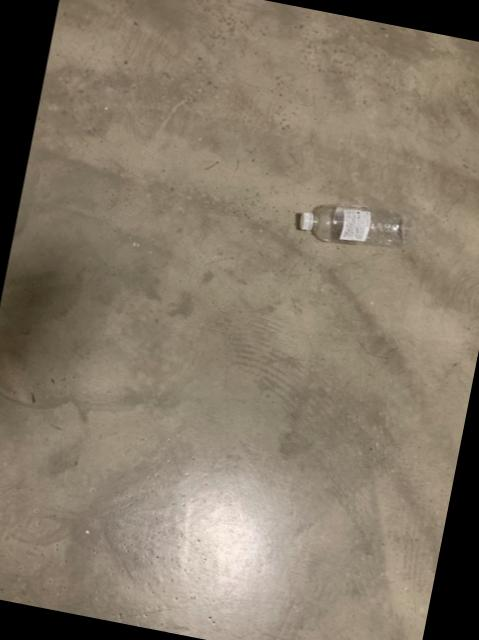plastic: (293, 205, 410, 248)
